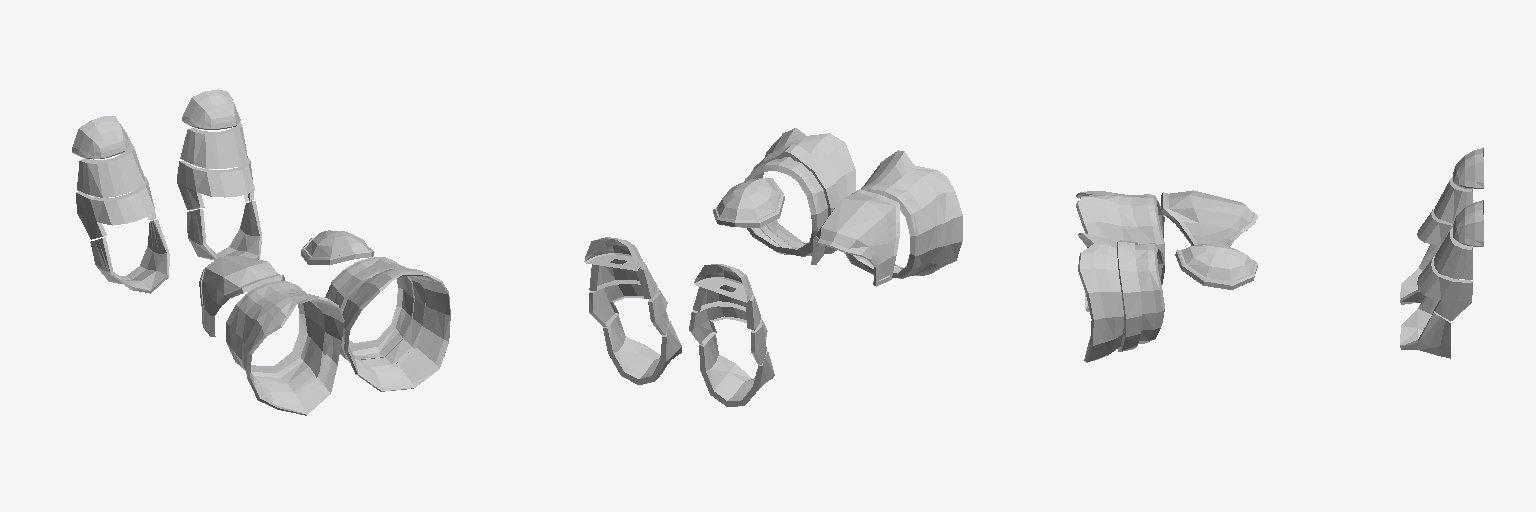
Rendered from initiatetacticsthigh2.obj.
3 renders of one model, left to right at view 1: azimuth 30°, elevation 25°; view 2: azimuth 150°, elevation 25°; view 3: azimuth 270°, elevation 25°, orthographic.
Parts seen in each view (by area): view 1: UpperBody:1.005, UpperBody:1.030, UpperBody:1.004, UpperBody:1.040, UpperBody:1.012, UpperBody:1.006, UpperBody:1.017, UpperBody:1.021, UpperBody:1.011, UpperBody:1.013, UpperBody:1.014, UpperBody:1.043 (+4 smaller); view 2: UpperBody:1.005, UpperBody:1.030, UpperBody:1.017, UpperBody:1.011, UpperBody:1.040, UpperBody:1.014, UpperBody:1.004, UpperBody:1.043, UpperBody:1.021, UpperBody:1.013, UpperBody:1.038, UpperBody:1.006 (+4 smaller); view 3: UpperBody:1.030, UpperBody:1.005, UpperBody:1.017, UpperBody:1.011, UpperBody:1.038, UpperBody:1.040, UpperBody:1.006, UpperBody:1.016, UpperBody:1.013, UpperBody:1.012, UpperBody:1.021, UpperBody:1.043 (+3 smaller).
Boxes of the visible parts, box(x1,y1,x2,y2) form: UpperBody:1.005: box(226, 281, 344, 415); UpperBody:1.030: box(325, 257, 450, 391); UpperBody:1.004: box(76, 176, 155, 239); UpperBody:1.040: box(177, 158, 254, 209); UpperBody:1.012: box(77, 143, 144, 197); UpperBody:1.006: box(180, 122, 247, 168); UpperBody:1.017: box(202, 256, 277, 329); UpperBody:1.021: box(72, 116, 130, 159); UpperBody:1.011: box(301, 230, 373, 264); UpperBody:1.013: box(182, 89, 240, 129); UpperBody:1.014: box(118, 221, 166, 290); UpperBody:1.043: box(217, 201, 259, 258); UpperBody:1.005: box(845, 150, 962, 278); UpperBody:1.030: box(744, 128, 855, 256); UpperBody:1.017: box(816, 193, 895, 279); UpperBody:1.011: box(713, 178, 784, 227); UpperBody:1.040: box(589, 282, 668, 334); UpperBody:1.014: box(704, 335, 754, 400); UpperBody:1.004: box(689, 305, 767, 364); UpperBody:1.043: box(608, 315, 660, 378); UpperBody:1.021: box(694, 264, 752, 302); UpperBody:1.013: box(584, 237, 642, 270); UpperBody:1.038: box(751, 144, 839, 255); UpperBody:1.006: box(589, 259, 657, 298); UpperBody:1.030: box(1078, 233, 1164, 362); UpperBody:1.005: box(1076, 191, 1164, 311); UpperBody:1.017: box(1169, 190, 1253, 244); UpperBody:1.011: box(1175, 244, 1257, 289); UpperBody:1.038: box(1117, 240, 1141, 351); UpperBody:1.040: box(1417, 248, 1472, 320); UpperBody:1.006: box(1434, 227, 1472, 279); UpperBody:1.016: box(1400, 296, 1450, 358); UpperBody:1.013: box(1453, 200, 1483, 246); UpperBody:1.012: box(1434, 177, 1472, 221); UpperBody:1.021: box(1453, 148, 1483, 188); UpperBody:1.043: box(1400, 296, 1439, 345).
Size of the model in its own units: 31.24 by 22.91 by 54.3.